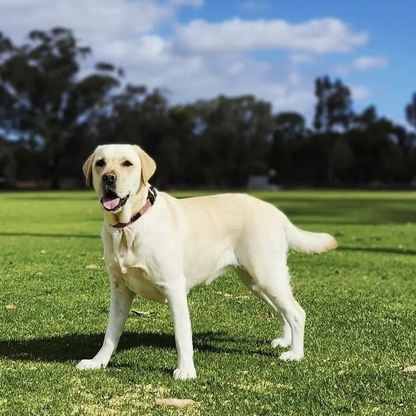labrado: (67, 135, 348, 383)
